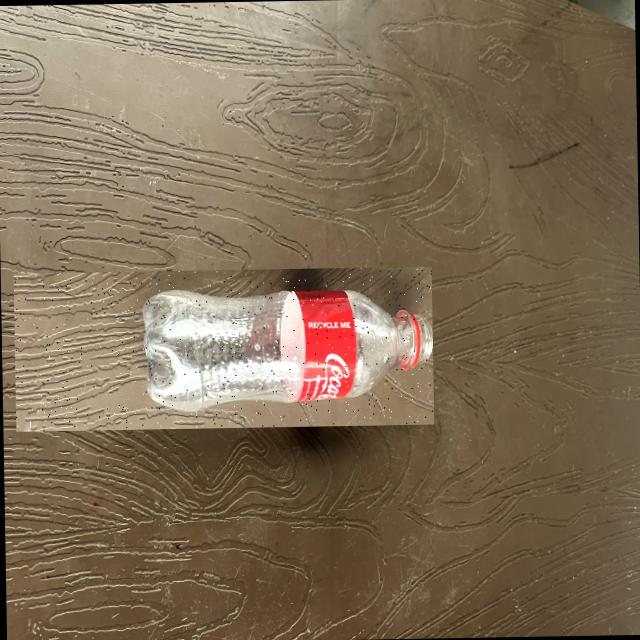REJECT: (12, 266, 433, 431)
